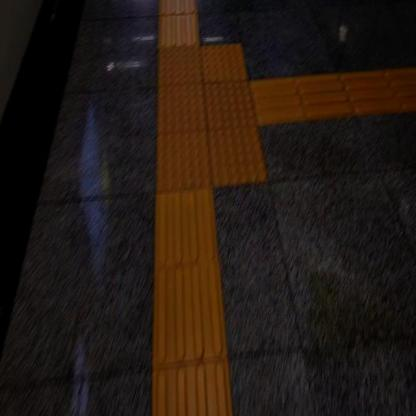podotacti: (138, 23, 292, 226), (150, 195, 238, 415), (260, 68, 416, 126), (153, 0, 203, 42)
